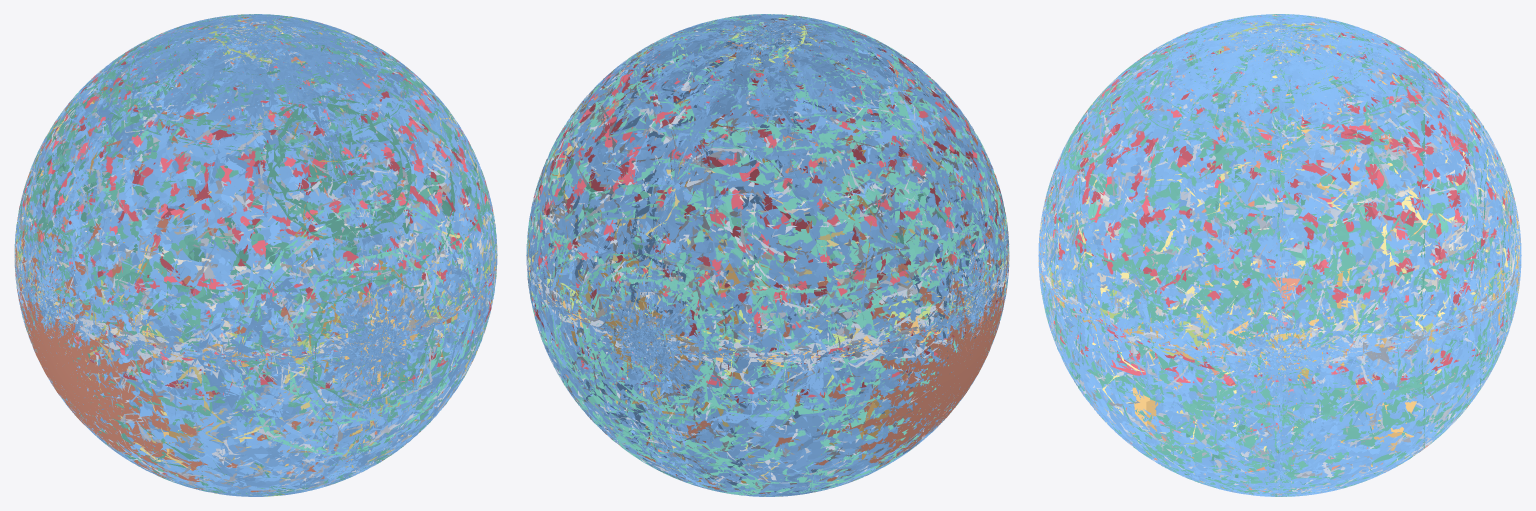
Rendered from roof.glb.
3 renders of one model, left to right at view 1: azimuth 30°, elevation 25°; view 2: azimuth 150°, elevation 25°; view 3: azimuth 270°, elevation 25°, orthographic.
Visible parts, largest first — view 1: LQ-RF-hvac, LQ-RF-piping, LQ-RF-structural, LQ-RF-telecom, LQ-RF-safety, LQ-RF-equipment, LQ-RF-lighting, LQ-RF-architectural, LQ-RF-piping_frp, LQ-RF-e_i; view 2: LQ-RF-hvac, LQ-RF-piping, LQ-RF-structural, LQ-RF-safety, LQ-RF-telecom, LQ-RF-equipment, LQ-RF-lighting, LQ-RF-architectural, LQ-RF-piping_frp, LQ-RF-e_i; view 3: LQ-RF-hvac, LQ-RF-piping, LQ-RF-structural, LQ-RF-safety, LQ-RF-lighting, LQ-RF-equipment, LQ-RF-architectural, LQ-RF-telecom, LQ-RF-piping_frp, LQ-RF-e_i.
Part boxes in pixels (x1,y1,x2,y2): LQ-RF-hvac: (14, 14, 497, 496); LQ-RF-piping: (14, 14, 497, 496); LQ-RF-structural: (14, 14, 497, 496); LQ-RF-telecom: (15, 14, 493, 495); LQ-RF-safety: (15, 16, 496, 489); LQ-RF-equipment: (15, 16, 497, 470); LQ-RF-lighting: (16, 25, 496, 484); LQ-RF-architectural: (14, 30, 494, 359); LQ-RF-piping_frp: (14, 16, 496, 496); LQ-RF-e_i: (15, 27, 497, 495); LQ-RF-hvac: (526, 14, 1009, 496); LQ-RF-piping: (526, 14, 1009, 496); LQ-RF-structural: (526, 14, 1009, 496); LQ-RF-safety: (527, 15, 1009, 454); LQ-RF-telecom: (528, 14, 1008, 496); LQ-RF-equipment: (527, 14, 1009, 483); LQ-RF-lighting: (528, 28, 1005, 481); LQ-RF-architectural: (531, 26, 1008, 357); LQ-RF-piping_frp: (527, 16, 1006, 496); LQ-RF-e_i: (527, 23, 1008, 471); LQ-RF-hvac: (1038, 14, 1521, 496); LQ-RF-piping: (1041, 14, 1518, 496); LQ-RF-structural: (1038, 14, 1520, 496); LQ-RF-safety: (1041, 16, 1516, 489); LQ-RF-lighting: (1040, 15, 1519, 451); LQ-RF-equipment: (1038, 22, 1520, 488); LQ-RF-architectural: (1040, 28, 1520, 359); LQ-RF-telecom: (1040, 15, 1520, 496); LQ-RF-piping_frp: (1040, 22, 1519, 488); LQ-RF-e_i: (1040, 31, 1518, 489).
Size of the model in its own units: 2 by 2 by 2.
